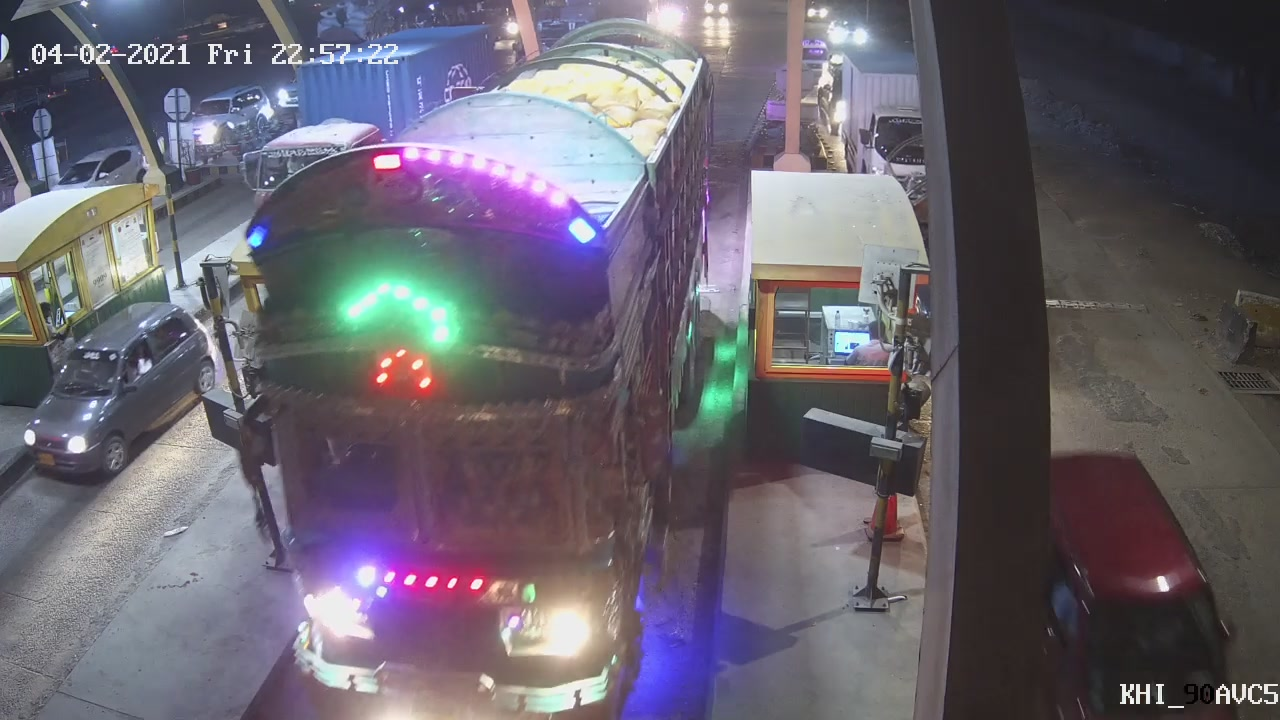F5: (242, 16, 720, 716)
